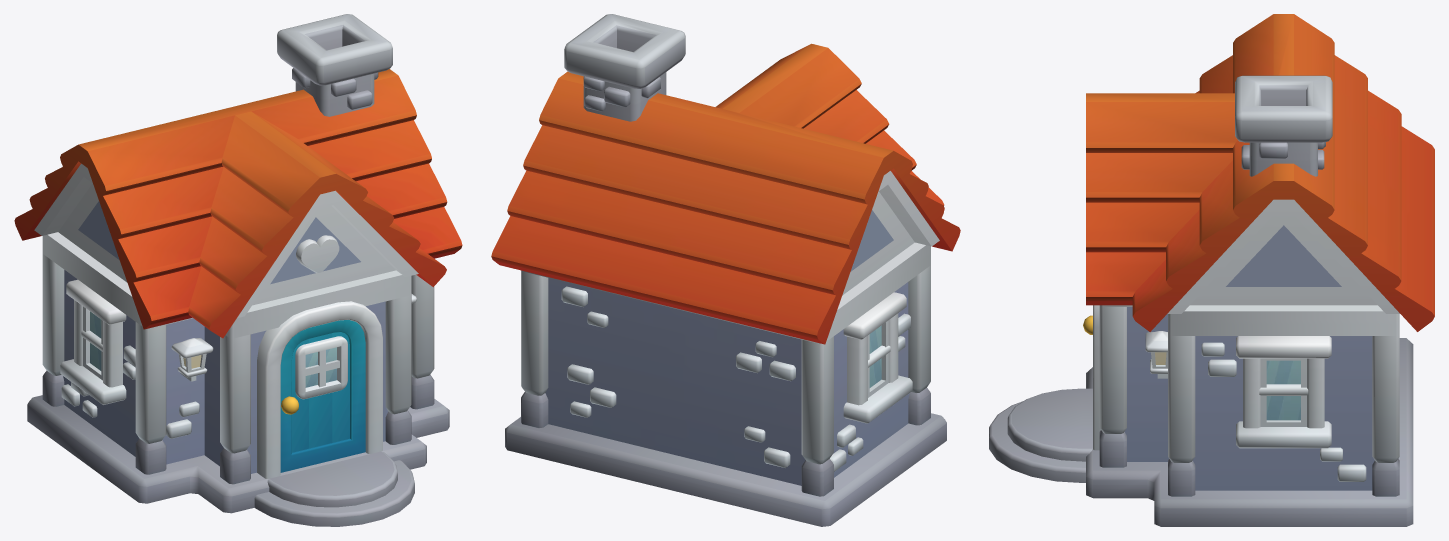
File: house_toy.glb
The picture shows the model from 3 angles, left to right: view 1: azimuth 30°, elevation 25°; view 2: azimuth 150°, elevation 25°; view 3: azimuth 270°, elevation 25°; orthographic projection. The views are drawn at different scales.
Parts seen in each view (by area): view 1: house; view 2: house; view 3: house.
Part boxes in pixels (<box>): house: <box>14,14,462,526</box>; house: <box>491,14,960,526</box>; house: <box>989,14,1434,526</box>.
Size of the model in its own units: 5.9 by 6.5 by 6.54.
1 material, 1 textured.
